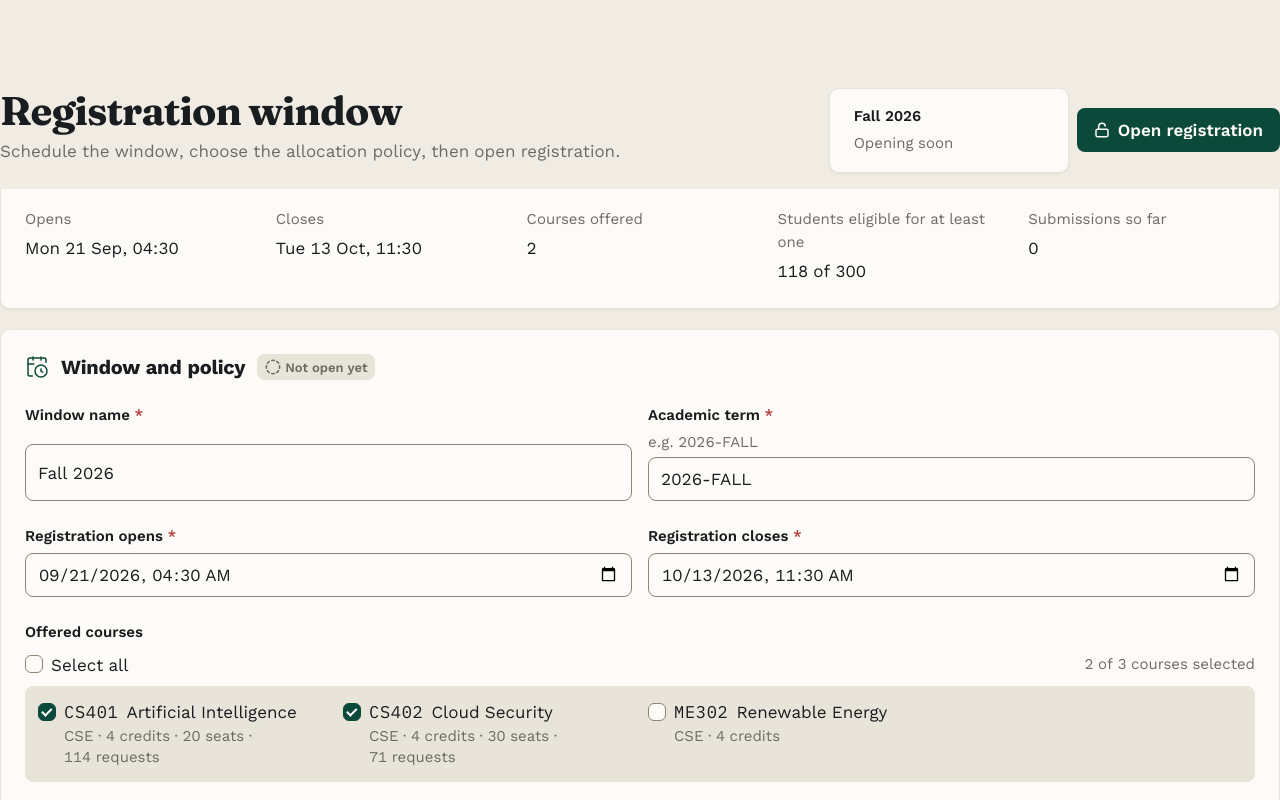
Test: RegistrationWindowPage › shows the server’s refusal inside the dialog
Click the button "Open registration" at (1178,130), box [1077,108,1279,152]
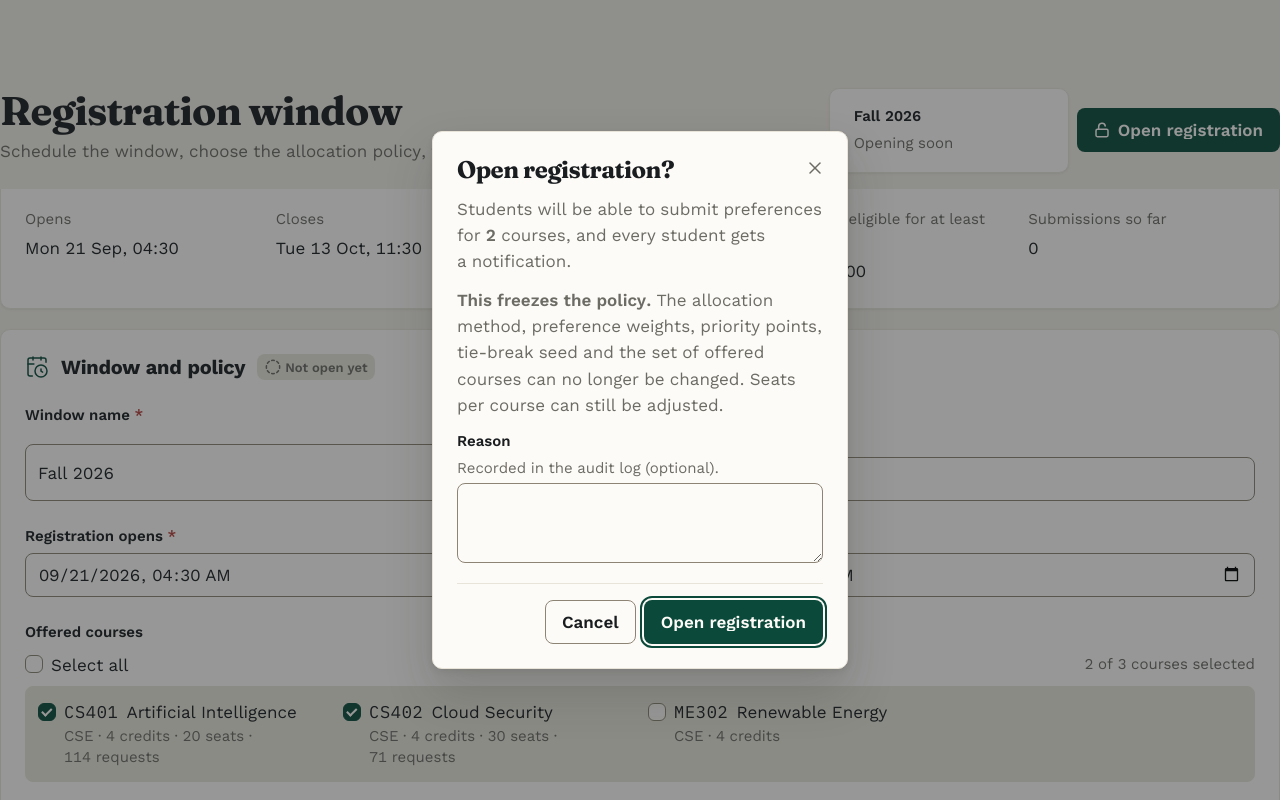
Click the button "Open registration" at (733,622), box [644,600,823,644]
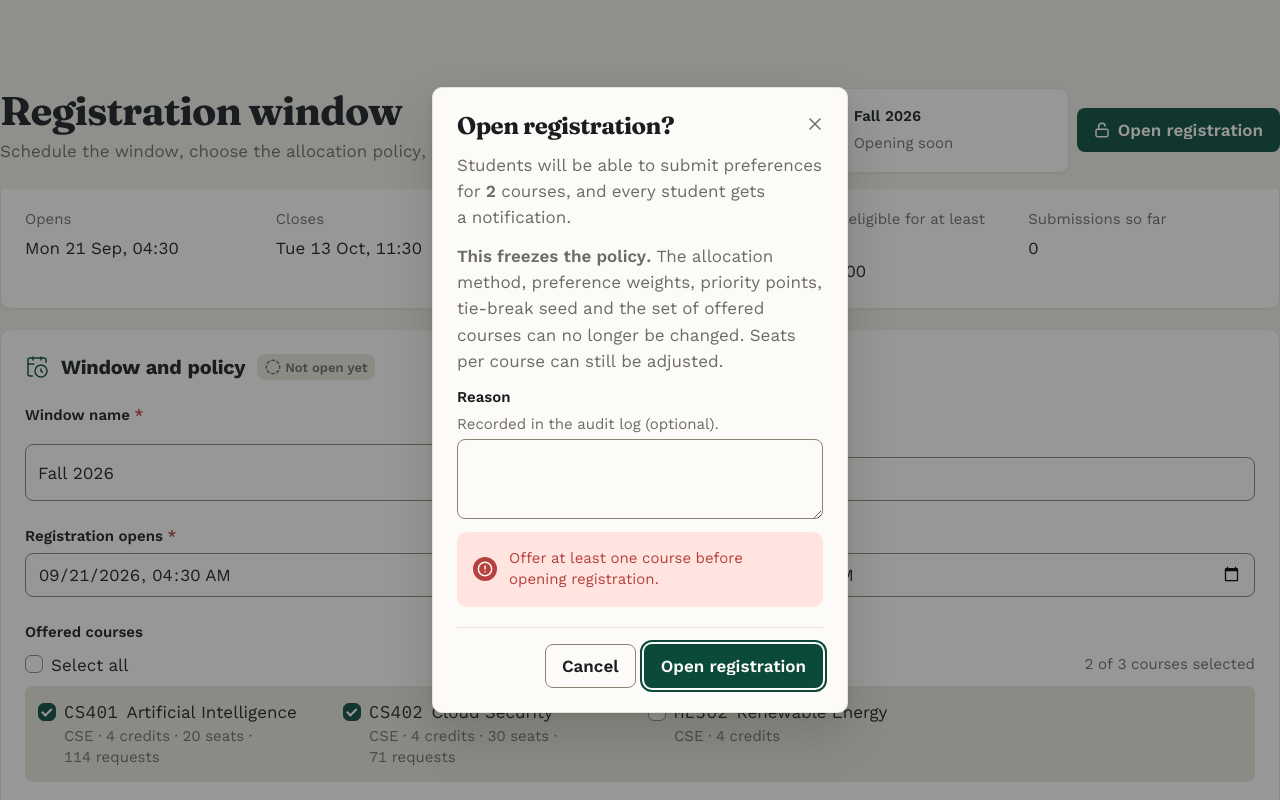
Expected: the text "Offer at least one course before opening registration." is shown, [509,549,743,588]
